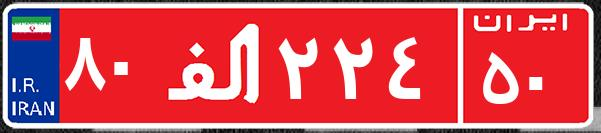0: (110, 28, 158, 105), (525, 38, 570, 115)
2: (273, 28, 330, 110), (330, 28, 385, 110)
4: (385, 28, 445, 110)
5: (475, 38, 525, 113)
8: (57, 26, 110, 107)
الف: (158, 15, 273, 115)
